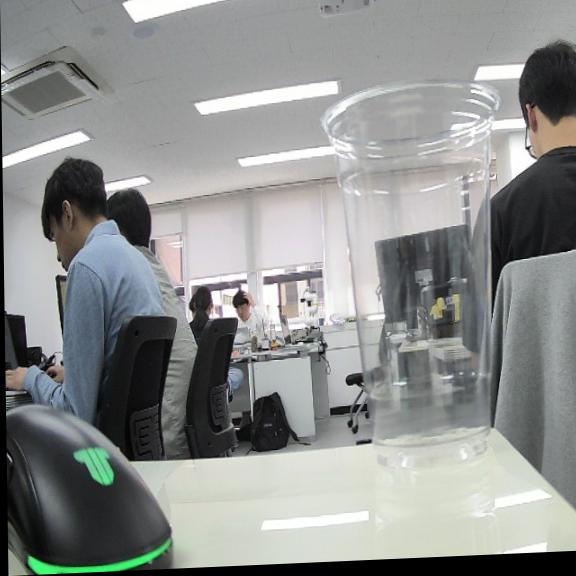Plastik: (323, 82, 499, 466)
